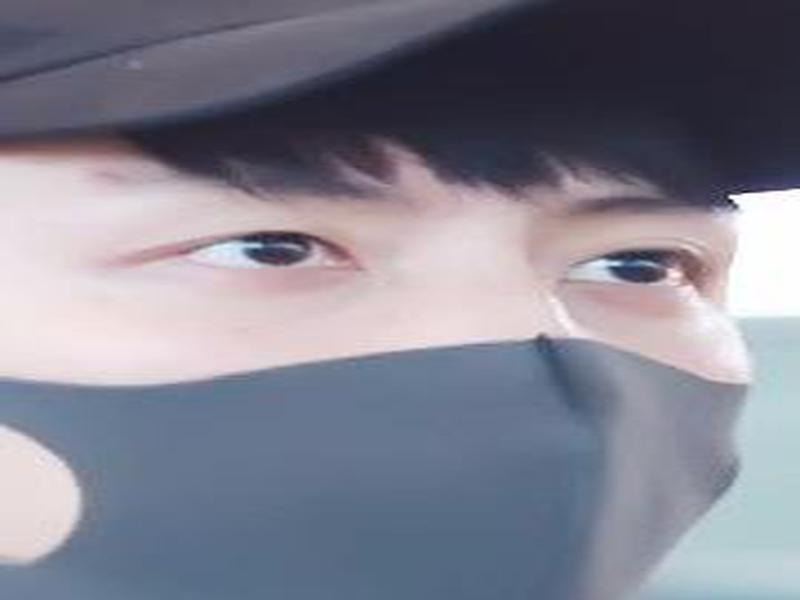with_mask: (1, 112, 755, 596)
